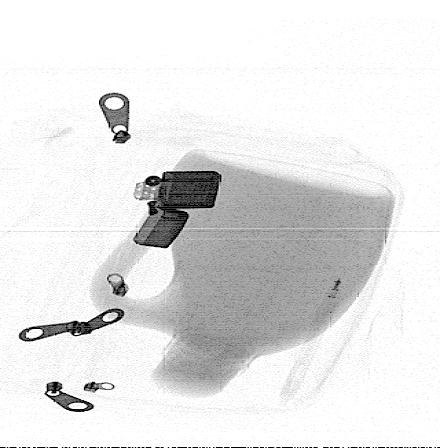Lighter: (131, 170, 222, 249)
